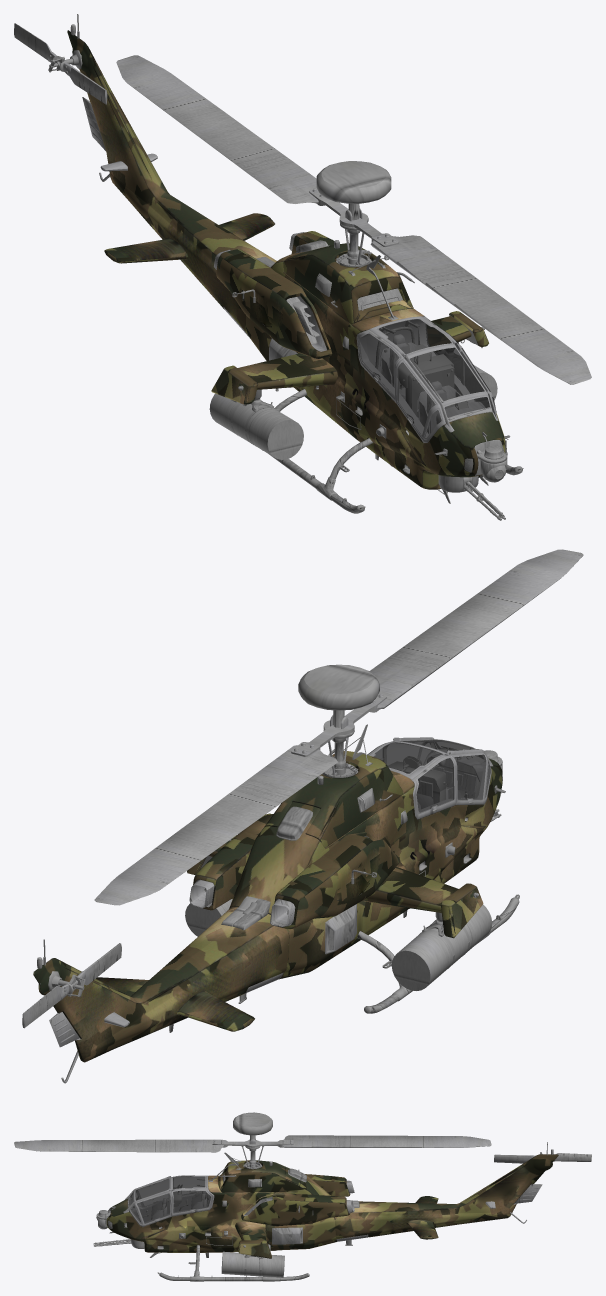
File: Helicopter_2.FBX
3 views of the same model, one above another, from view 1: azimuth 30°, elevation 25°; view 2: azimuth 150°, elevation 25°; view 3: azimuth 270°, elevation 25° (orthographic). The views are drawn at different scales.
Visible parts, largest first — view 1: Body, Main rotor, Tail rotor; view 2: Body, Main rotor, Tail rotor; view 3: Body, Main rotor, Tail rotor.
Boxes of the visible parts, x1=… form: Body: x1=67, y1=14, x2=523, y2=520; Main rotor: x1=116, y1=55, x2=591, y2=384; Tail rotor: x1=14, y1=23, x2=107, y2=104; Body: x1=33, y1=664, x2=519, y2=1083; Main rotor: x1=94, y1=549, x2=583, y2=905; Tail rotor: x1=22, y1=943, x2=121, y2=1028; Body: x1=93, y1=1112, x2=558, y2=1281; Main rotor: x1=14, y1=1135, x2=491, y2=1168; Tail rotor: x1=494, y1=1152, x2=591, y2=1163.
Bounding box in the file's own units: 84.05 × 84.5 × 313.
